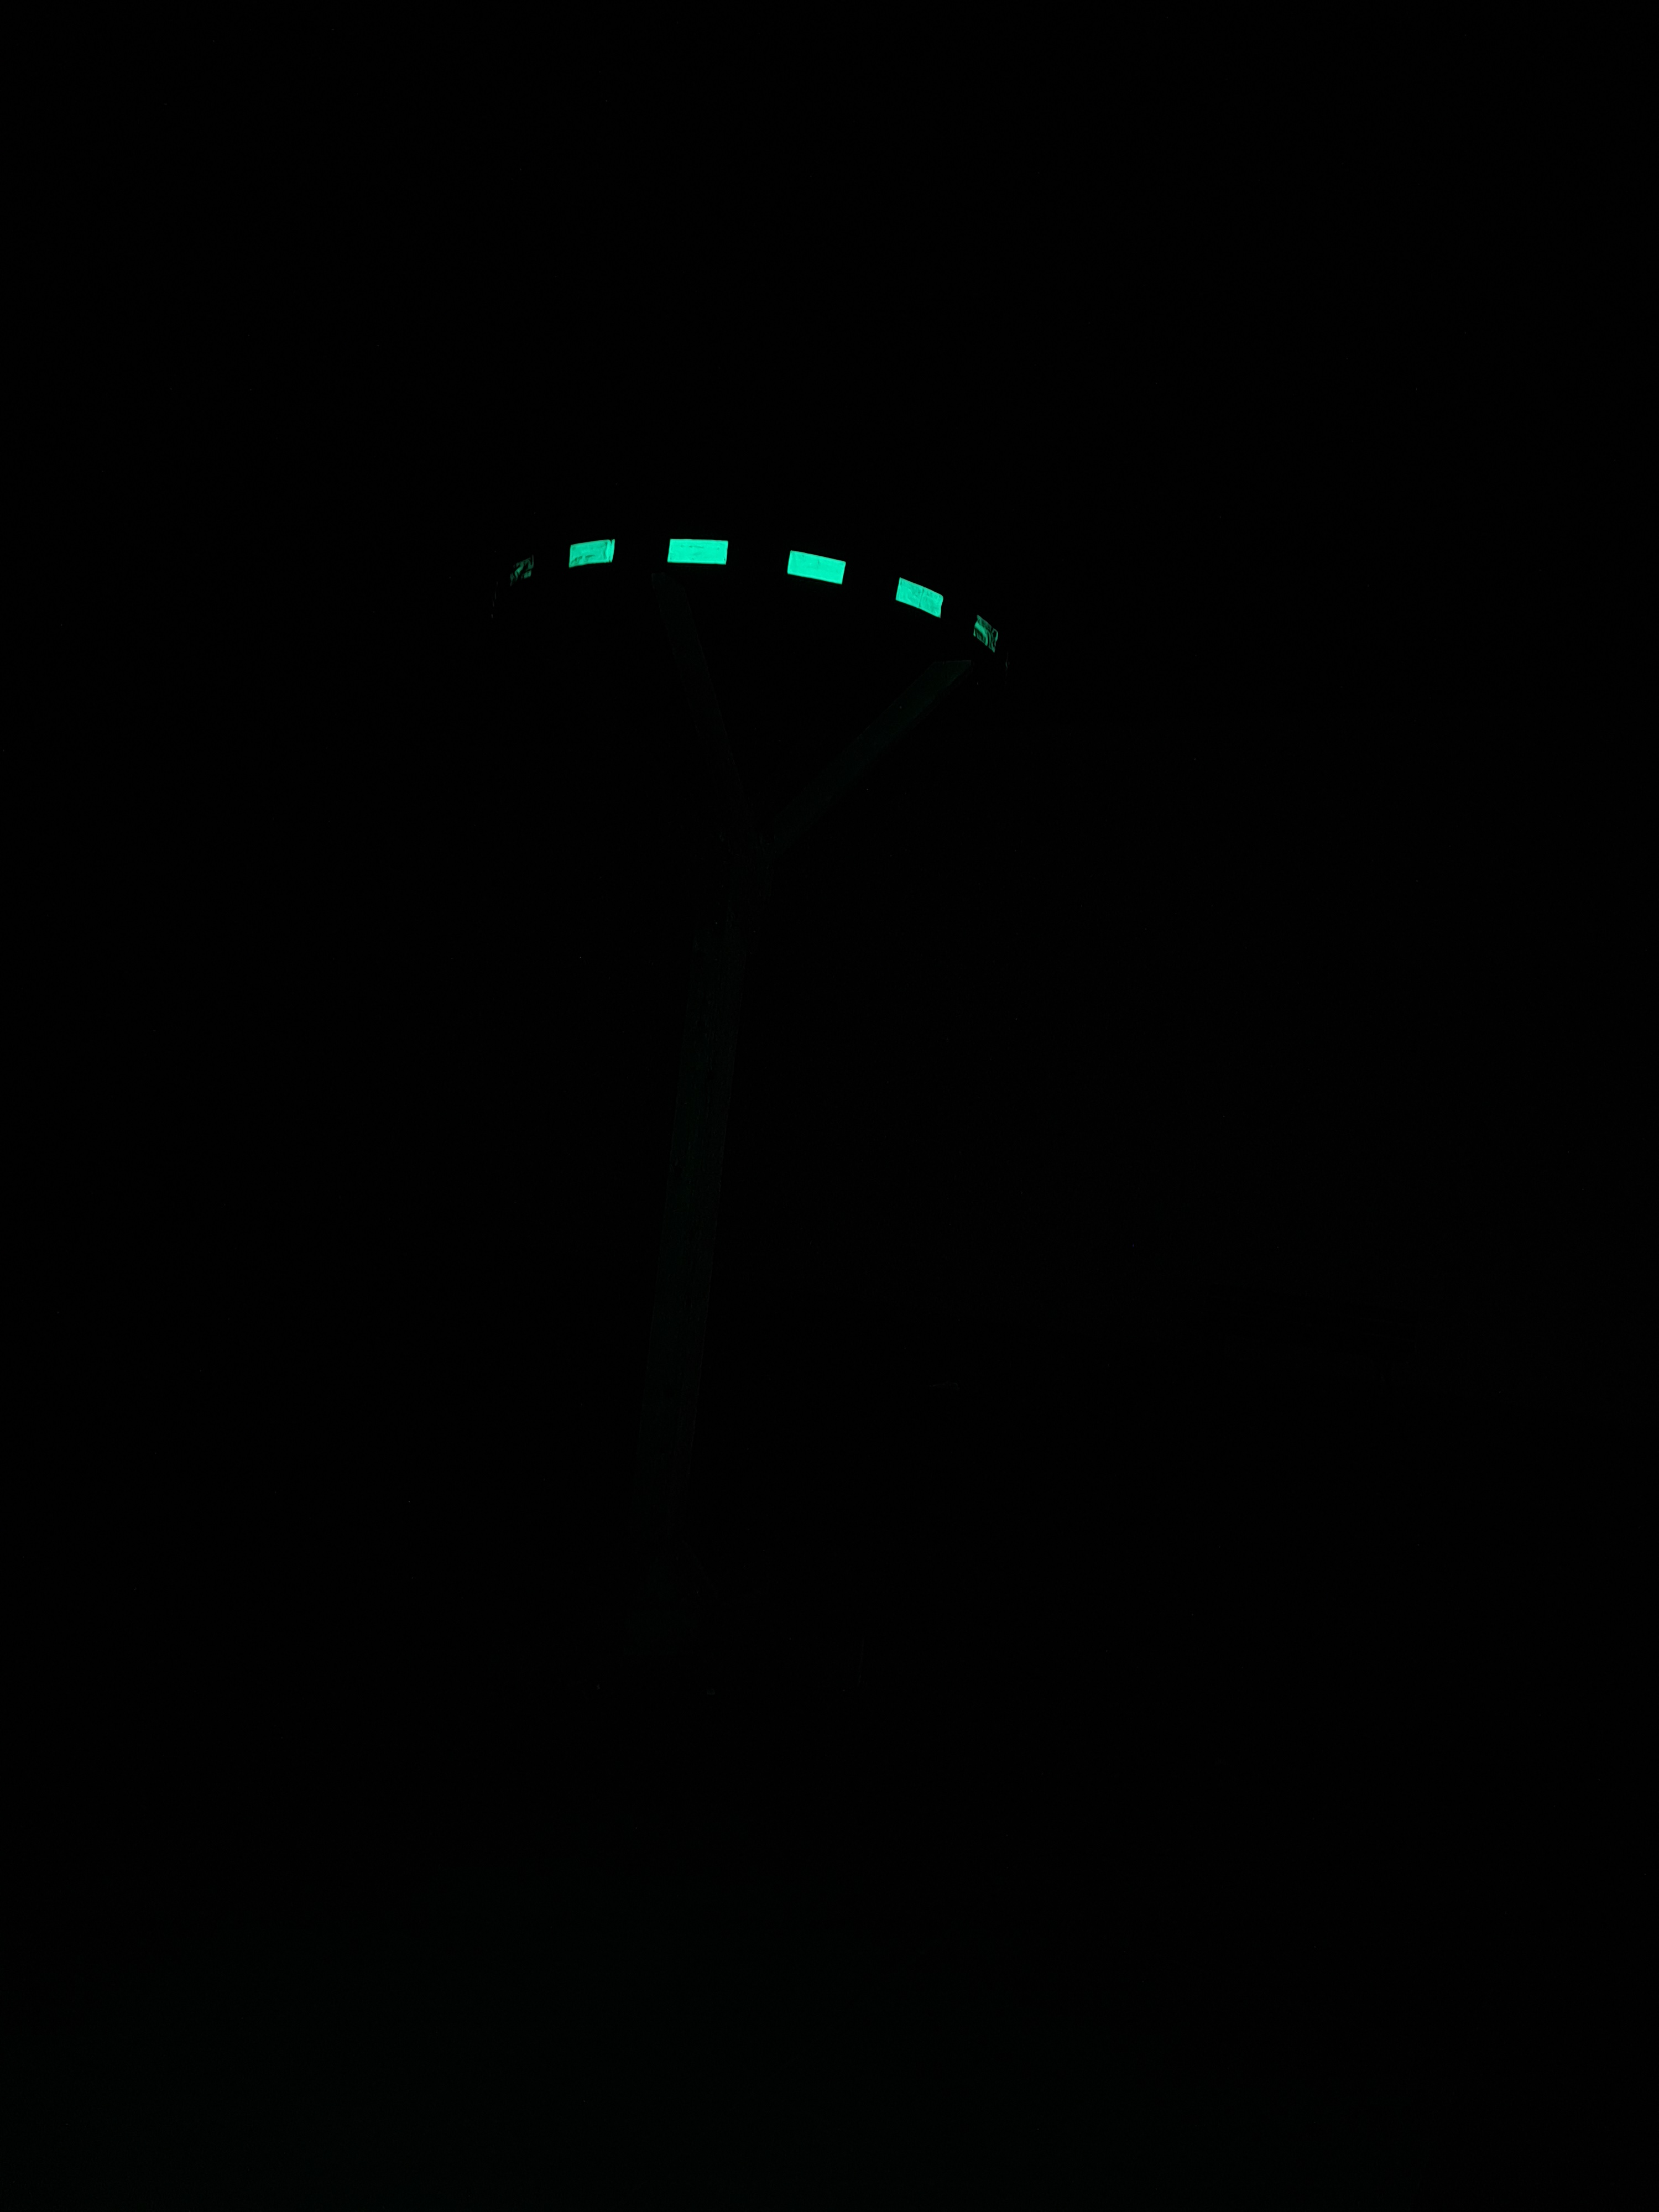hoop: (471, 507, 1023, 681)
